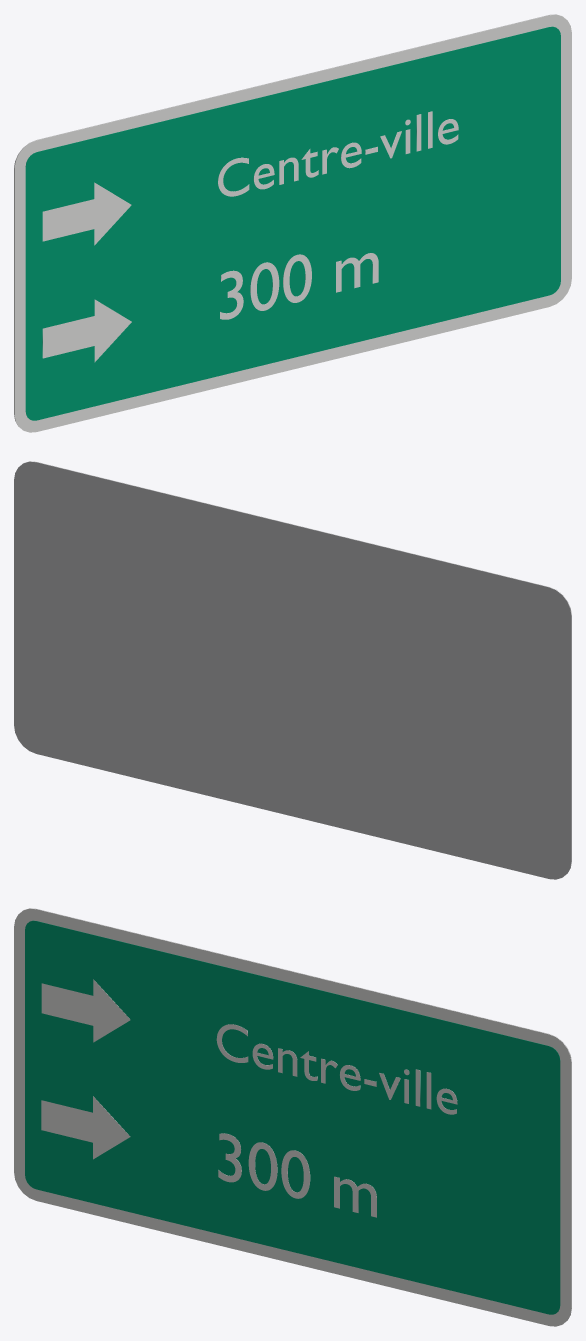
3 renders of one model, top to bottom at view 1: azimuth 30°, elevation 25°; view 2: azimuth 150°, elevation 25°; view 3: azimuth 330°, elevation 25°, orthographic.
Parts seen in each view (by area): view 1: Dp43_fond01, Dp43_cadre00, Dp43_txt03, Dp43_fl04, Dp43_fl02, Dp43_txt05, Dp43_dos; view 2: Dp43_dos; view 3: Dp43_fond01, Dp43_cadre00, Dp43_txt03, Dp43_fl02, Dp43_fl04, Dp43_txt05, Dp43_dos.
Part boxes in pixels (x1=…): Dp43_fond01: x1=25, y1=26, x2=560, y2=420; Dp43_cadre00: x1=14, y1=14, x2=571, y2=432; Dp43_txt03: x1=218, y1=111, x2=458, y2=196; Dp43_fl04: x1=42, y1=299, x2=131, y2=362; Dp43_fl02: x1=42, y1=182, x2=131, y2=245; Dp43_txt05: x1=220, y1=253, x2=378, y2=319; Dp43_dos: x1=14, y1=14, x2=559, y2=426; Dp43_dos: x1=14, y1=461, x2=571, y2=879; Dp43_fond01: x1=25, y1=920, x2=560, y2=1314; Dp43_cadre00: x1=14, y1=908, x2=571, y2=1326; Dp43_txt03: x1=216, y1=1024, x2=457, y2=1114; Dp43_fl02: x1=41, y1=979, x2=130, y2=1042; Dp43_fl04: x1=41, y1=1096, x2=130, y2=1159; Dp43_txt05: x1=218, y1=1133, x2=376, y2=1217; Dp43_dos: x1=26, y1=908, x2=571, y2=1320.
Size of the model in its own units: 1 by 0.5 by 0.0037.
